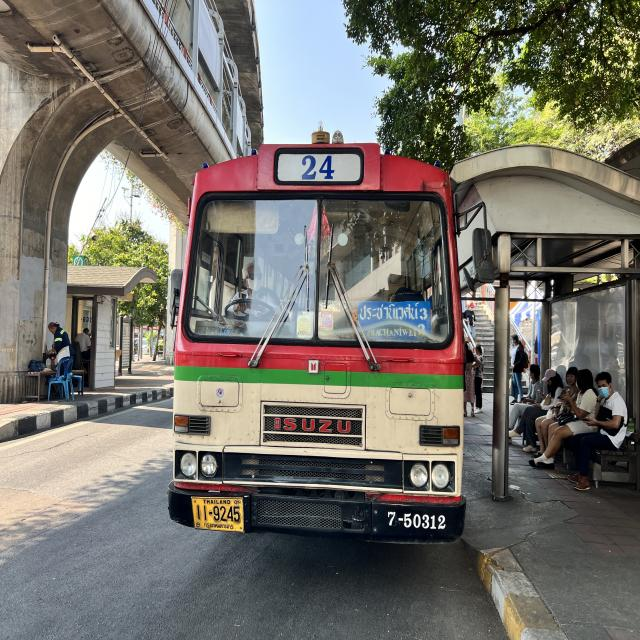BMTA-bus: (167, 140, 472, 547)
Bus-Line-Number: (274, 148, 366, 188)
Destination-Sign-Normal: (358, 300, 432, 340)
